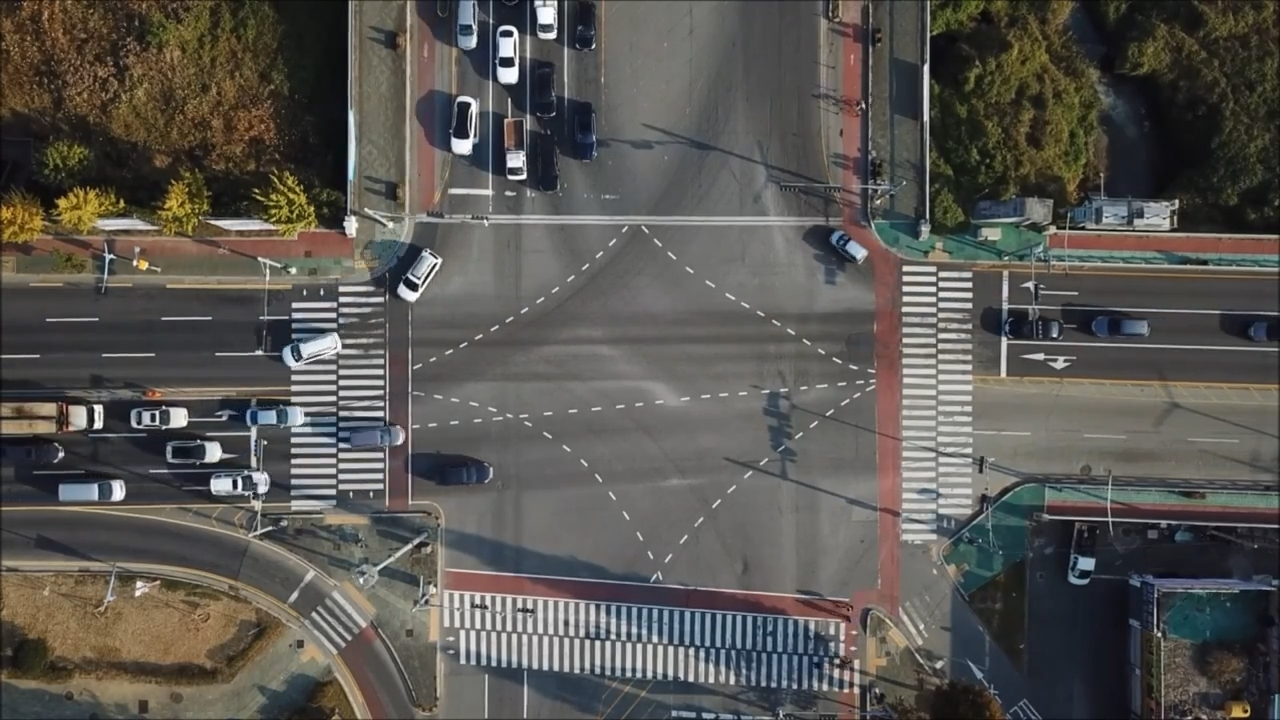car: (1, 400, 106, 433), (395, 245, 441, 306), (280, 331, 339, 367), (1067, 521, 1097, 586), (209, 468, 270, 498), (1, 438, 66, 466), (492, 21, 519, 85), (430, 461, 493, 488), (534, 124, 559, 189), (452, 97, 480, 155), (350, 422, 405, 451), (1002, 318, 1066, 342), (165, 438, 223, 464), (502, 113, 526, 175), (532, 55, 557, 114), (246, 404, 307, 428), (1091, 315, 1152, 339), (827, 230, 870, 264), (57, 480, 126, 500), (454, 1, 481, 51), (118, 406, 179, 428), (574, 102, 596, 162), (573, 1, 595, 50), (533, 1, 559, 36), (1249, 318, 1280, 343)
